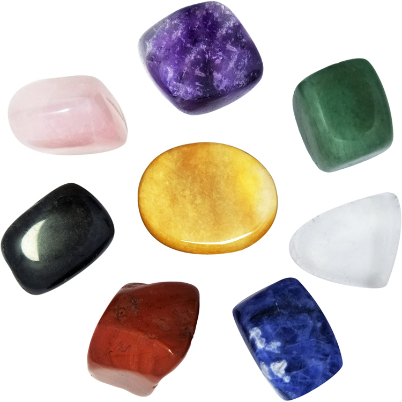stone: (126, 136, 287, 262), (120, 1, 272, 121), (76, 273, 216, 399), (227, 272, 343, 402), (1, 176, 123, 298), (290, 51, 402, 177), (285, 185, 402, 303), (3, 68, 133, 161)
